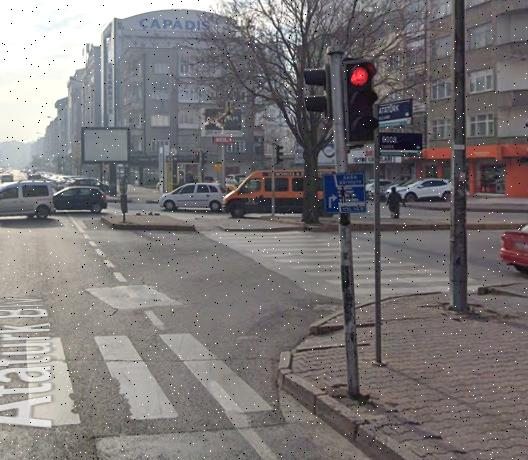redlight: (345, 59, 377, 145)
